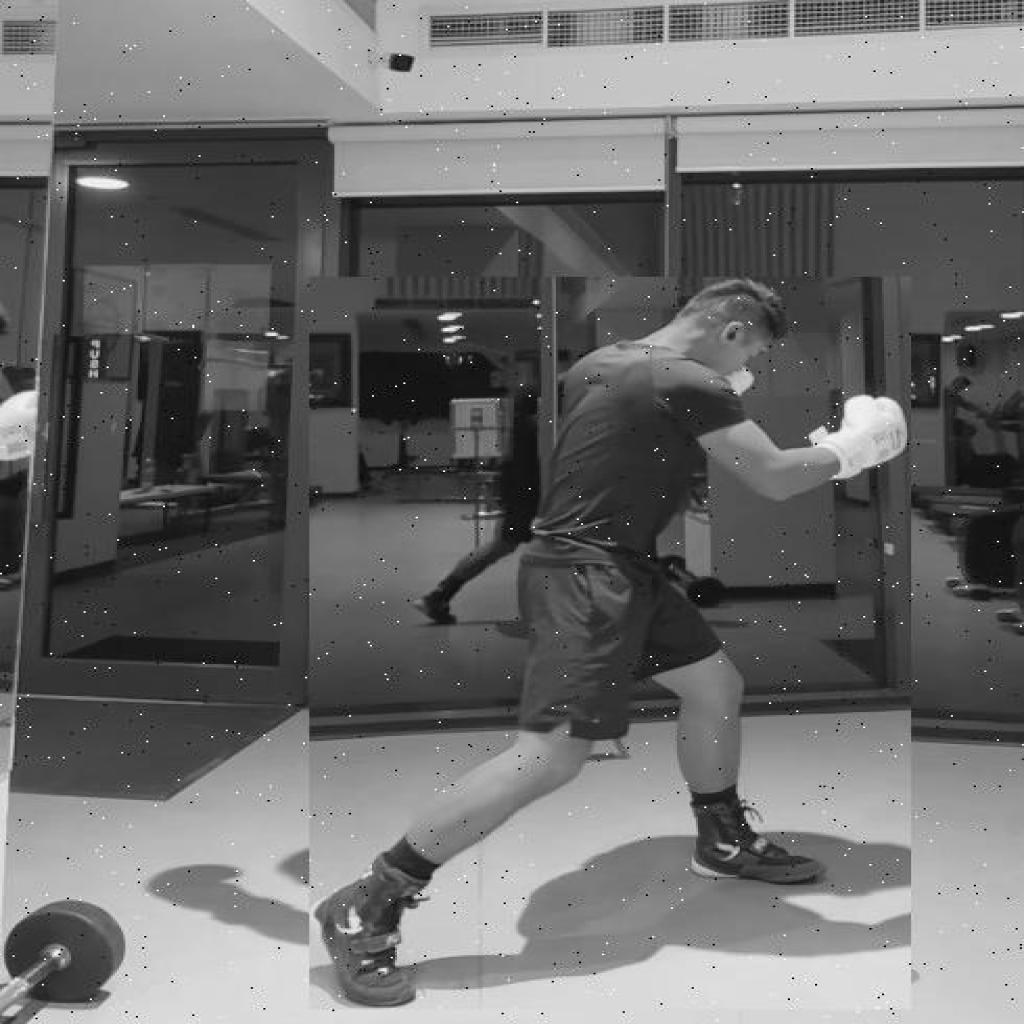uppercut: (309, 276, 910, 1010)
